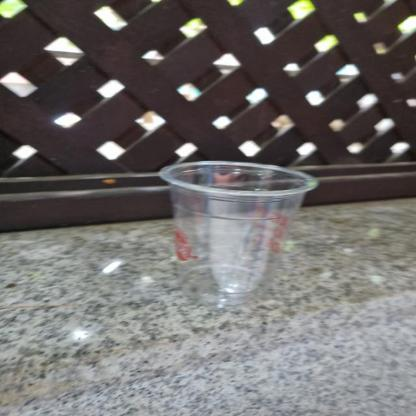Plastic Cup: (158, 160, 317, 312)
